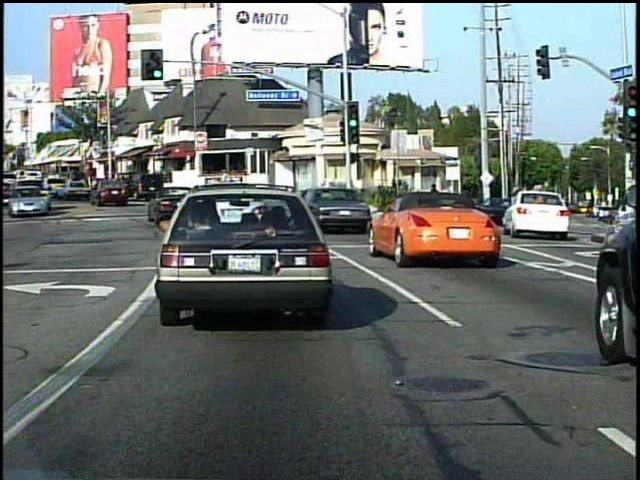person: (426, 182, 442, 220)
